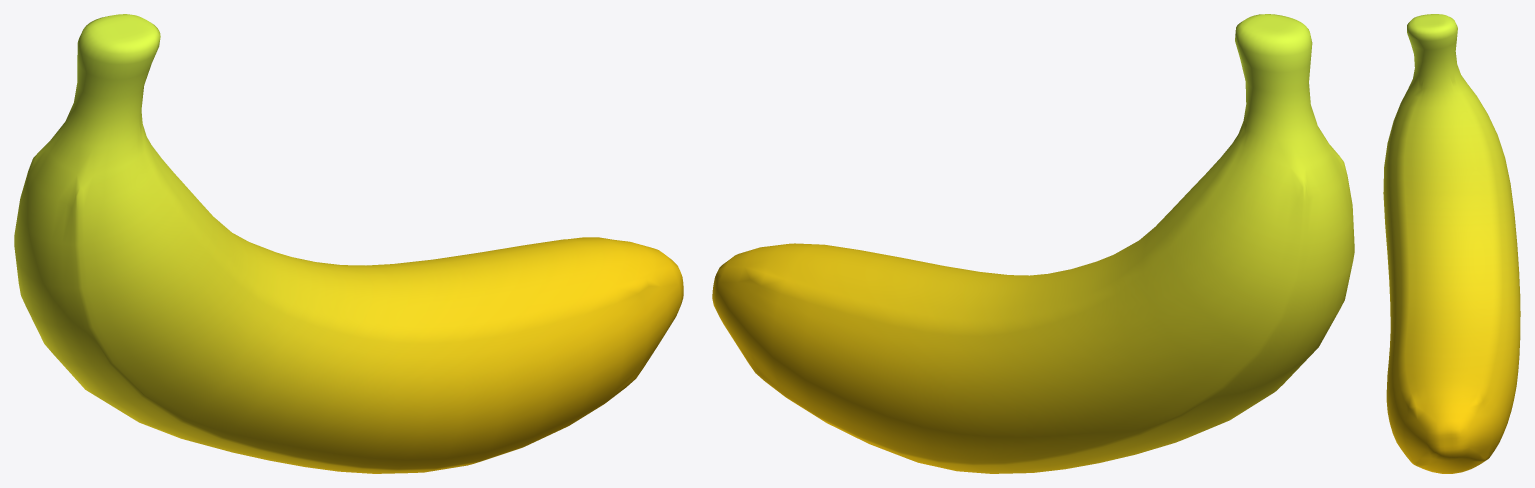
Rendered from Banana.fbx.
3 views of the same model, side by side, from view 1: azimuth 30°, elevation 25°; view 2: azimuth 150°, elevation 25°; view 3: azimuth 270°, elevation 25° (orthographic). The views are drawn at different scales.
Parts seen in each view (by area): view 1: Banana1; view 2: Banana1; view 3: Banana1.
Part boxes in pixels (x1,y1,x2,y2): Banana1: [14, 14, 683, 473]; Banana1: [712, 14, 1354, 473]; Banana1: [1383, 14, 1520, 473].
Bounding box in the file's own units: 18.44 × 14.23 × 5.37.
